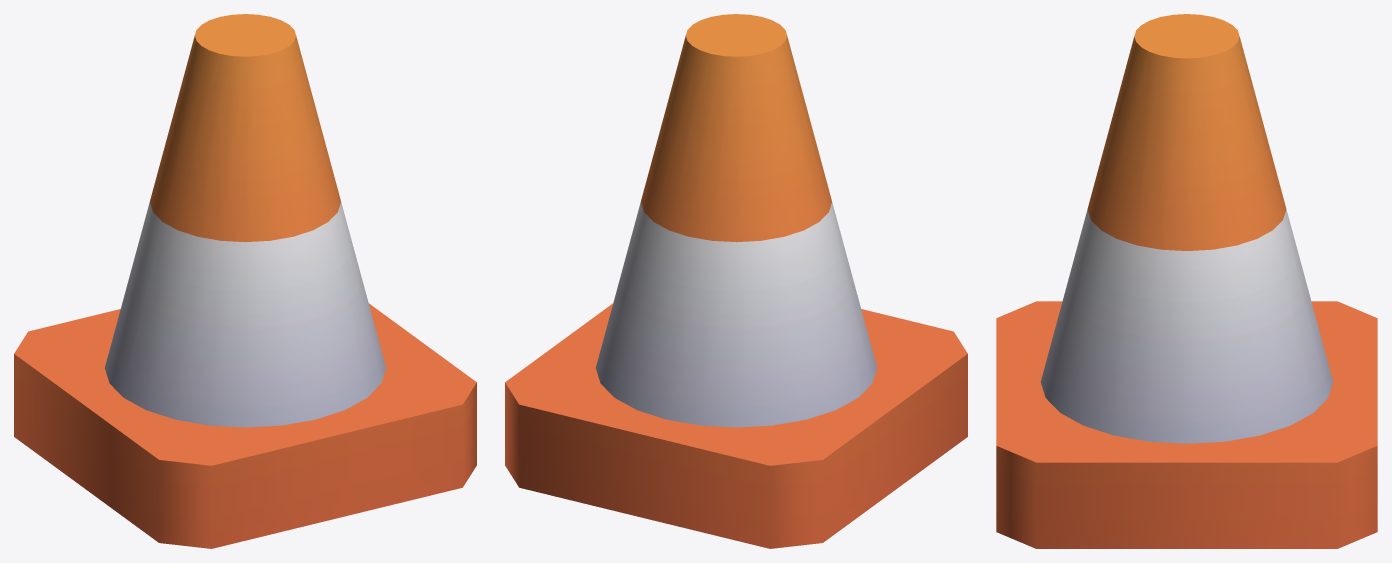
Rendered from traffic_cone.glb.
3 renders of one model, left to right at view 1: azimuth 30°, elevation 25°; view 2: azimuth 150°, elevation 25°; view 3: azimuth 270°, elevation 25°, orthographic. The views are drawn at different scales.
Visible parts, largest first — view 1: cone; view 2: cone; view 3: cone.
Part boxes in pixels (box(x1,y1,x2,y2)): cone: box(14, 14, 476, 548); cone: box(505, 14, 967, 548); cone: box(996, 14, 1377, 548).
Bounding box in the file's own units: 0.4762 × 0.5952 × 0.4762.
Materials: 1 (1 with a texture image).
